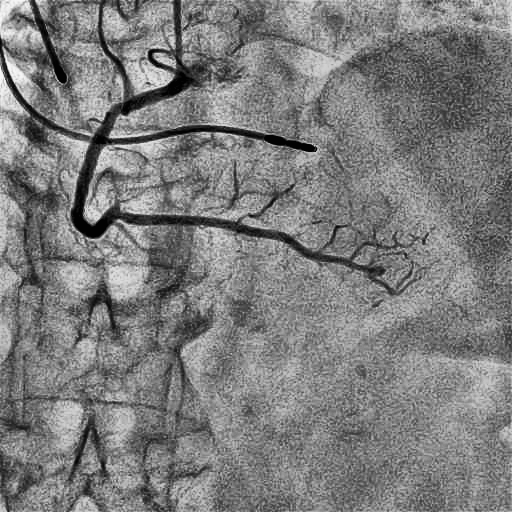pda: (118, 213, 369, 272)
rca: (71, 78, 182, 238)
